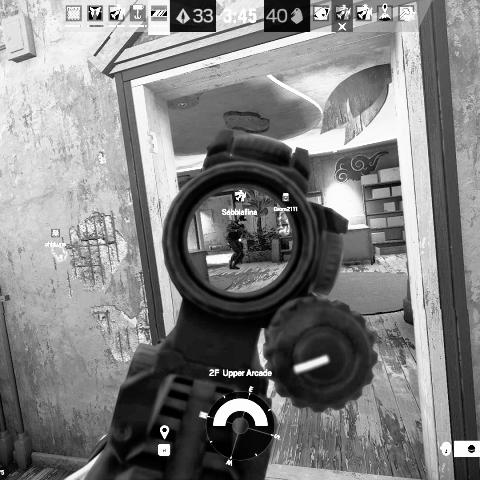Character: (226, 214, 255, 270)
Friend_label: (221, 190, 258, 216), (273, 192, 299, 212), (45, 228, 67, 247)
Head: (238, 215, 247, 225)
